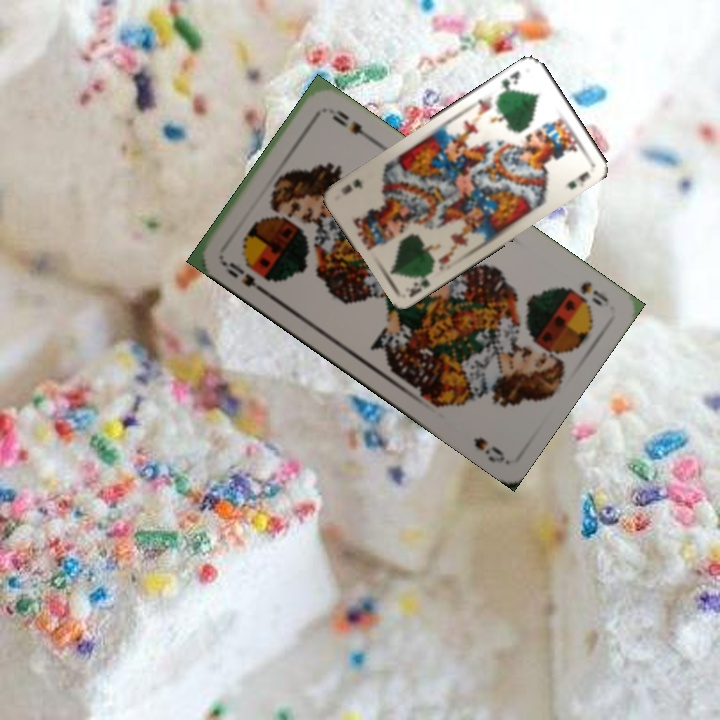GK: (404, 268, 435, 300), (496, 66, 522, 98)
SO: (216, 256, 268, 296), (576, 277, 612, 309)
